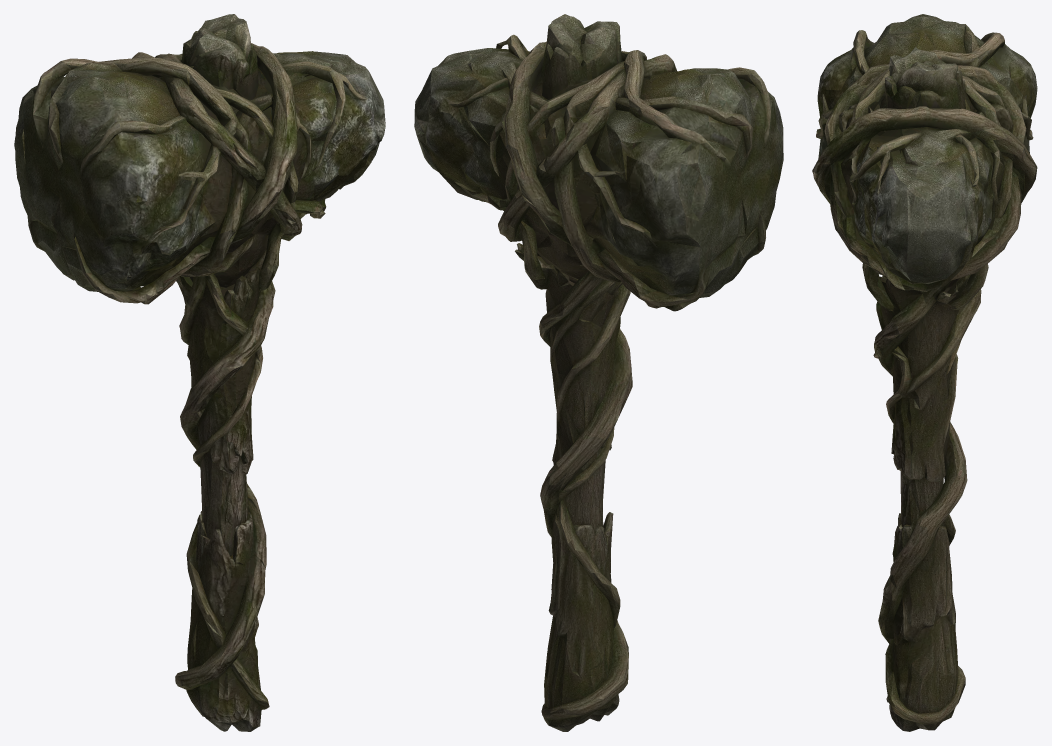
Rendered from weapon.glb.
3 views of the same model, side by side, from view 1: azimuth 30°, elevation 25°; view 2: azimuth 150°, elevation 25°; view 3: azimuth 270°, elevation 25° (orthographic). The views are drawn at different scales.
Parts seen in each view (by area): view 1: mesh_node; view 2: mesh_node; view 3: mesh_node.
Boxes of the visible parts, x1,y1,x2,y2 form: mesh_node: (14,14,385,731); mesh_node: (414,14,783,731); mesh_node: (812,14,1037,731).
Size of the model in its own units: 0.9209 by 1.9 by 0.582.
1 material, 1 textured.
